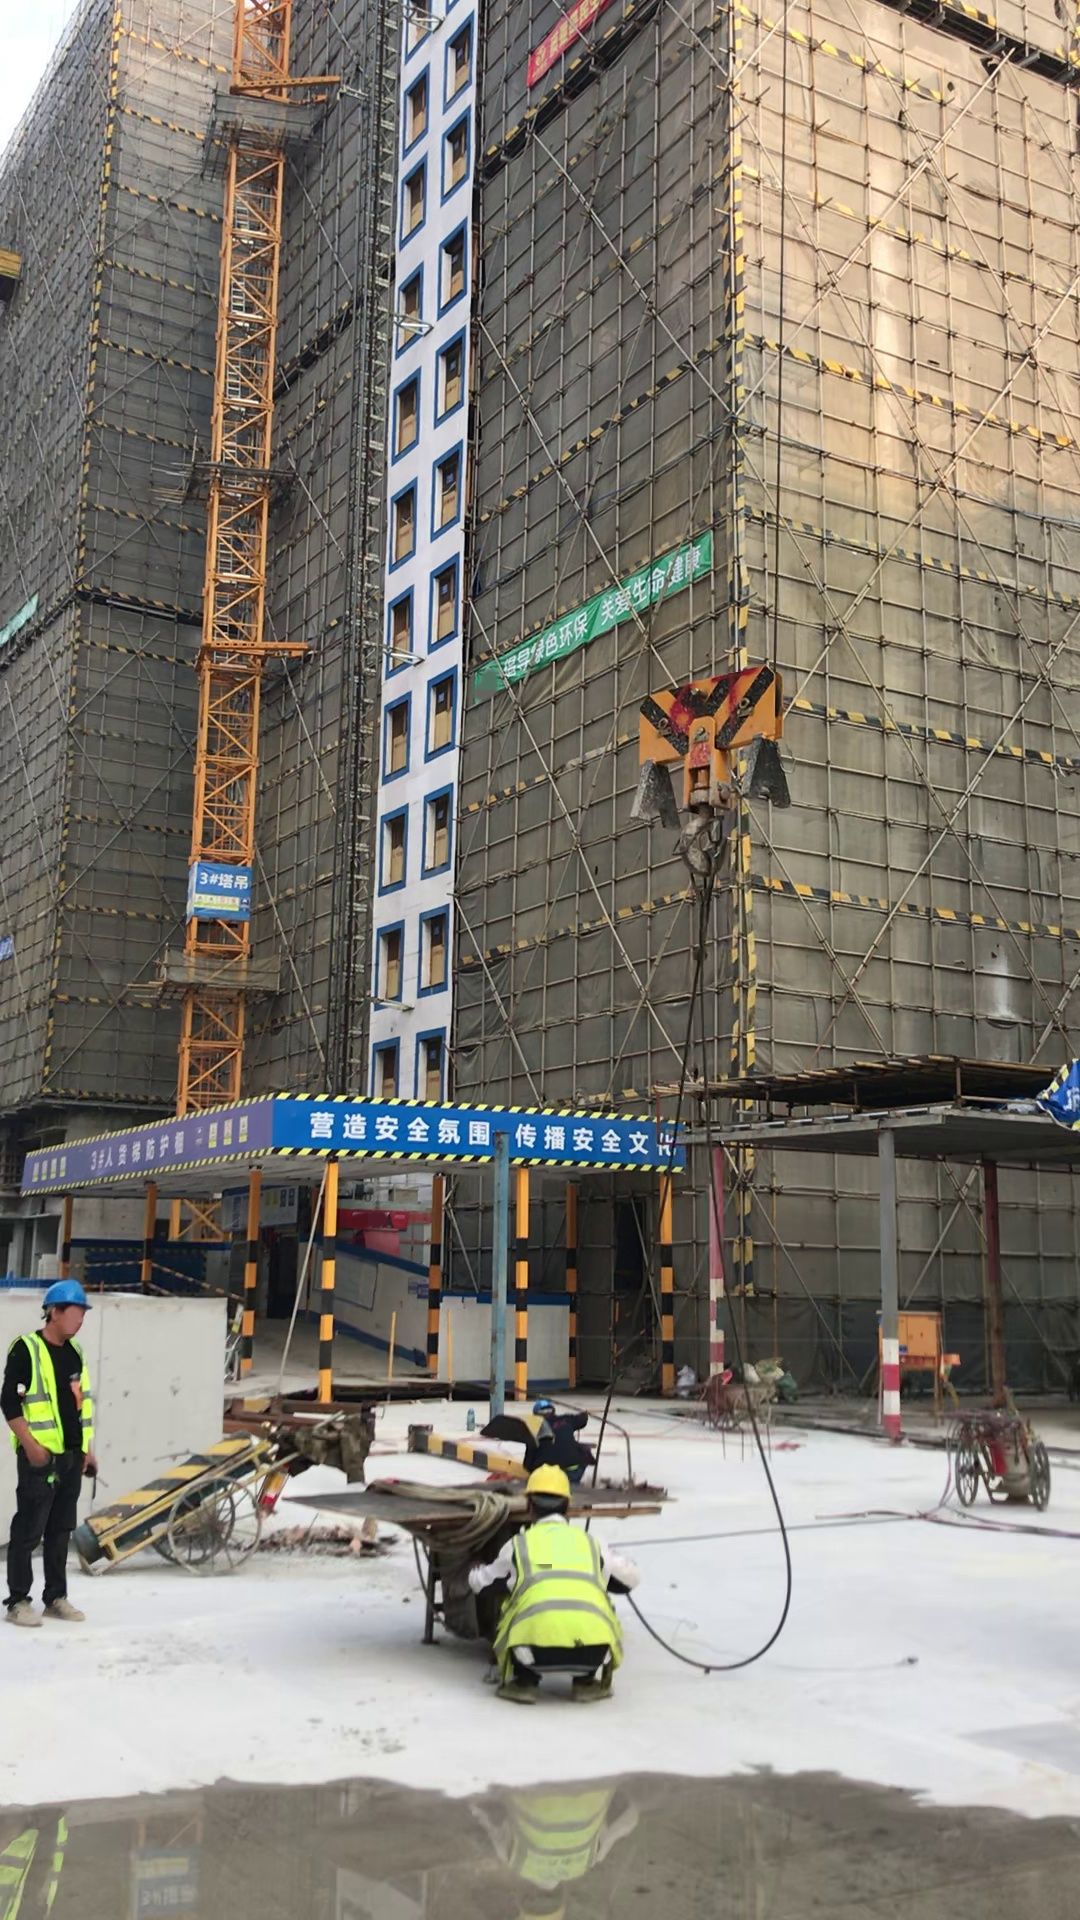ebox: (875, 1297, 961, 1368)
fence: (50, 1258, 247, 1319)
handcart: (912, 1361, 1061, 1526), (691, 1352, 776, 1455)
helmet: (33, 1267, 96, 1319), (524, 1458, 580, 1505)
hook: (613, 641, 832, 918)
person: (5, 1248, 120, 1652), (463, 1461, 640, 1713)
slogan: (427, 524, 714, 720), (255, 1086, 687, 1197), (10, 1090, 272, 1214), (493, 1, 631, 119), (167, 814, 272, 943), (1, 569, 72, 679), (1031, 1054, 1080, 1136)
vest: (494, 1514, 632, 1684), (15, 1307, 111, 1469)
